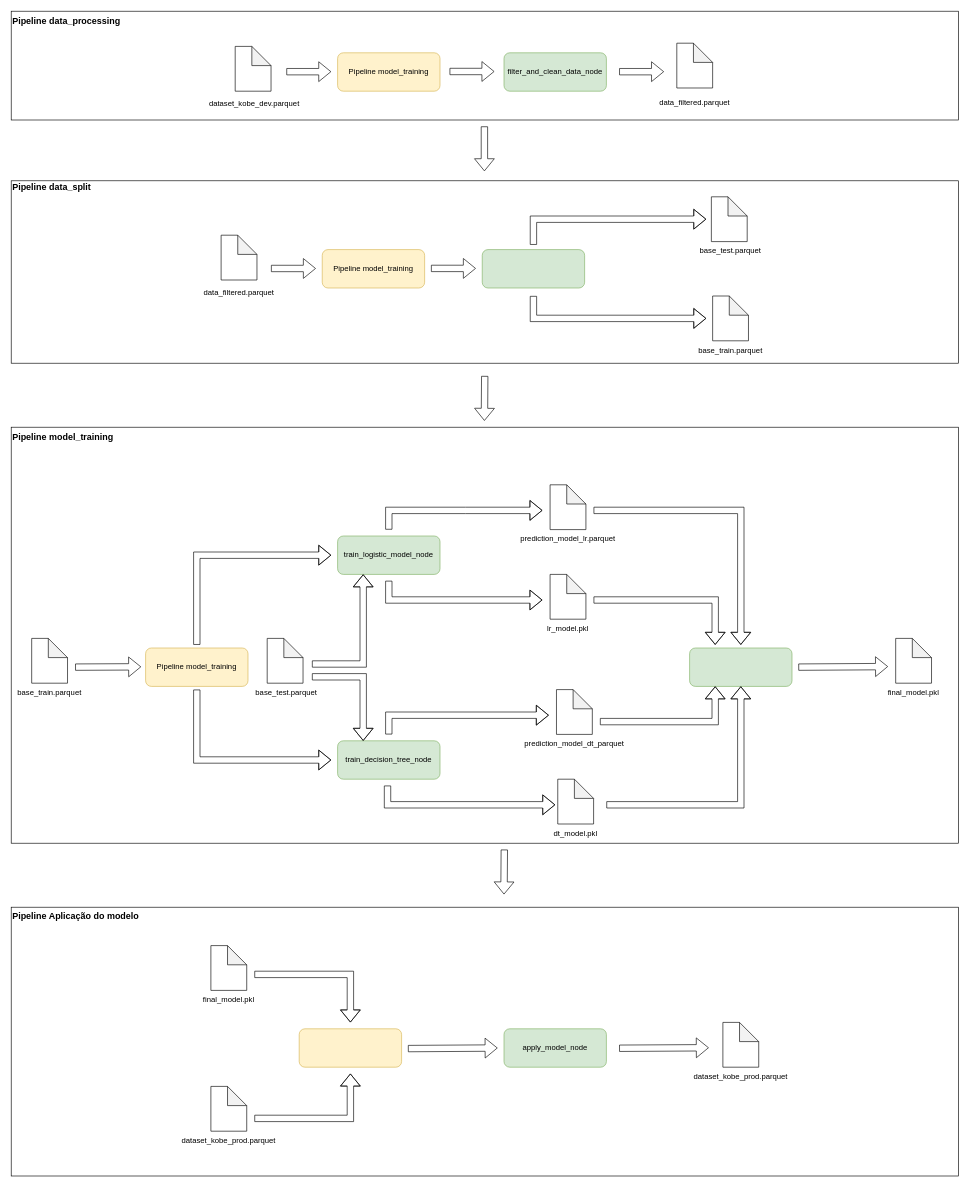
Image size: 970x1187. Some labels were removed from this diagram. Each missing label, with the centre of its shape:
"Pipeline Aplicação" goes at (350,1047).
"select_and_log_best_model" goes at (740,666).
"split_train_test_node" goes at (533,268).
